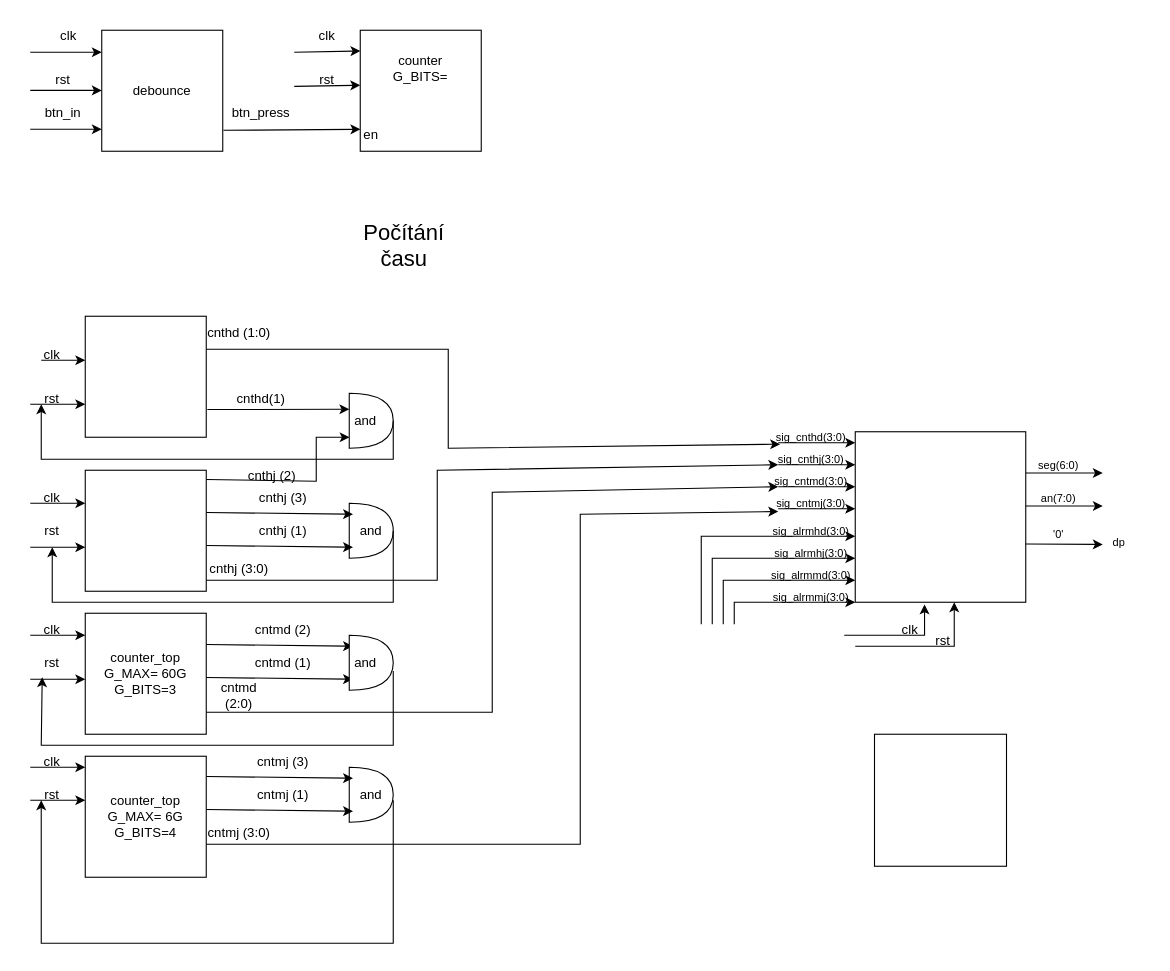
Some shapes in this 1170 by 971 pixel diagram are drawn without their labels. Each missing label, with the box of its shape:
comparator: (873, 733, 1007, 866)
counter_top G_MAX= 3600G G_BITS=2: (84, 315, 206, 437)
counter_top G_MAX= 360G G_BITS=4: (84, 469, 206, 591)
display driver: (854, 431, 1026, 602)
